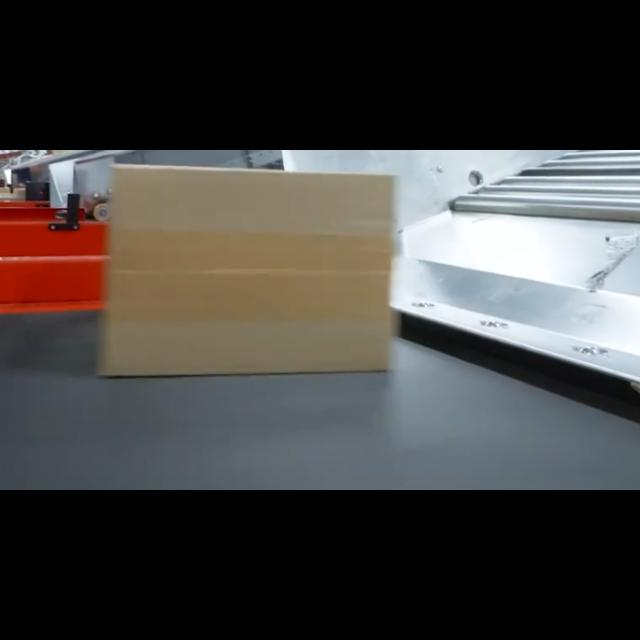mailer: (99, 162, 393, 376)
